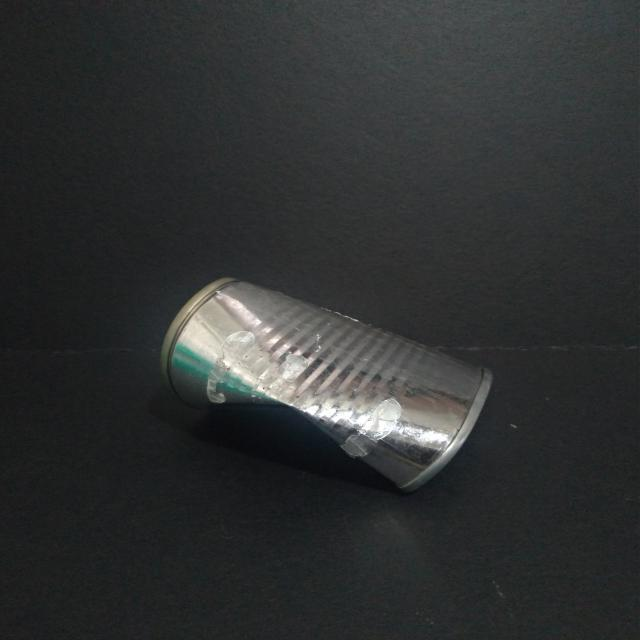metal: (153, 275, 495, 495)
